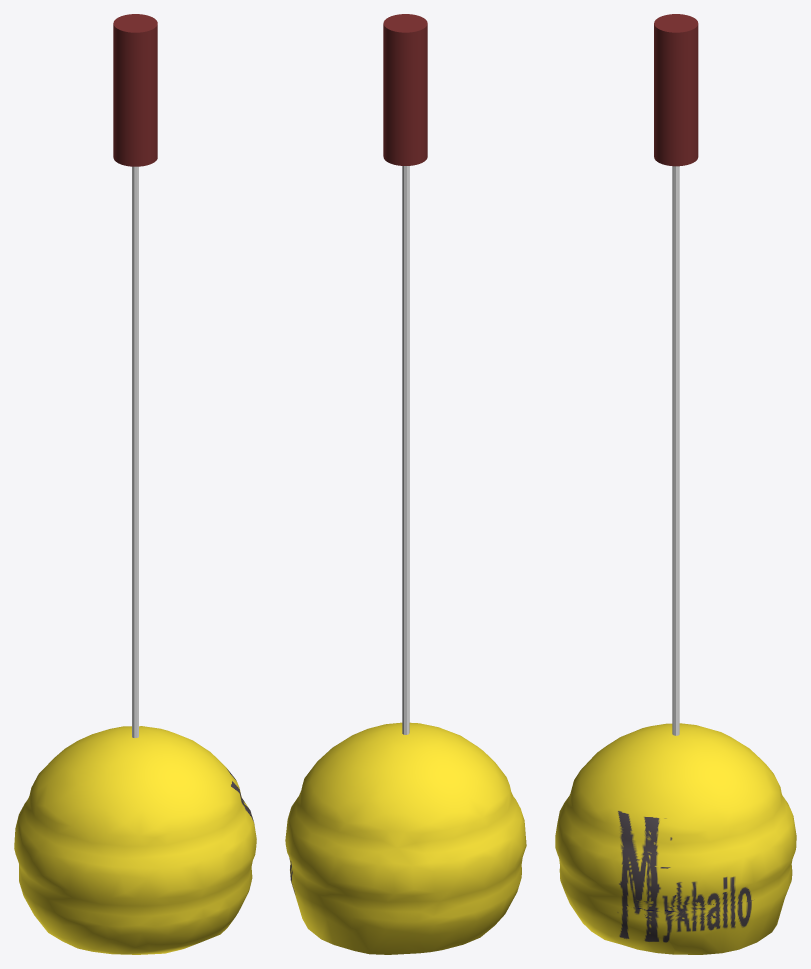
Rendered from lamp2.glb.
The picture shows the model from 3 angles, left to right: view 1: azimuth 30°, elevation 25°; view 2: azimuth 150°, elevation 25°; view 3: azimuth 270°, elevation 25°; orthographic projection.
Parts seen in each view (by area): view 1: 305_Kugel_4, 312_Zylinder.4, 304_Zylinder; view 2: 305_Kugel_4, 312_Zylinder.4, 304_Zylinder; view 3: 305_Kugel_4, 312_Zylinder.4, 304_Zylinder.
Boxes of the visible parts, left/top/right/bottom form: 305_Kugel_4: left=14, top=726, right=256, bottom=954; 312_Zylinder.4: left=113, top=14, right=157, bottom=166; 304_Zylinder: left=132, top=166, right=138, bottom=738; 305_Kugel_4: left=285, top=722, right=526, bottom=954; 312_Zylinder.4: left=383, top=14, right=427, bottom=165; 304_Zylinder: left=402, top=166, right=409, bottom=734; 305_Kugel_4: left=555, top=723, right=796, bottom=954; 312_Zylinder.4: left=654, top=14, right=698, bottom=166; 304_Zylinder: left=672, top=166, right=679, bottom=735.
Size of the model in its own units: 32.79 by 138 by 32.74.
Materials: 4 (1 with a texture image).
